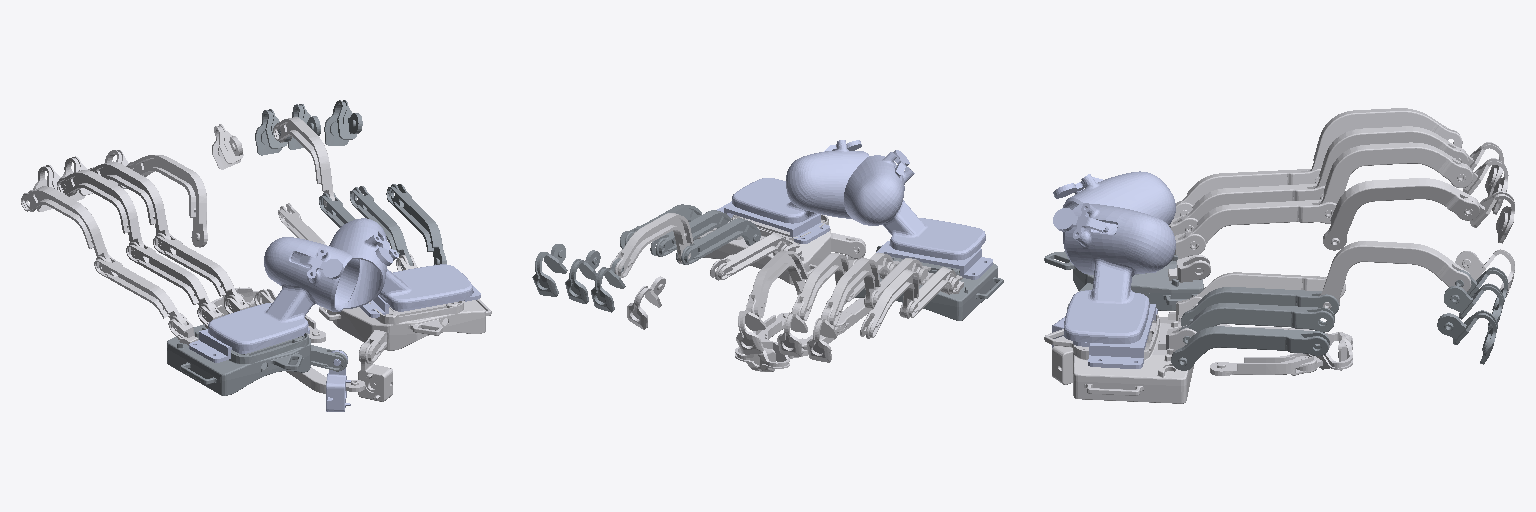
--- Render facts (derived) ---
3 views of the same robot in one strip: view 1: azimuth 30°, elevation 25°; view 2: azimuth 150°, elevation 25°; view 3: azimuth 270°, elevation 25° (orthographic).
Model skeleton_hands with 61 links and 60 joints (42 revolute, 18 fixed), rooted at base_link, posed all joints at 0.
Links seen in each view (by area): view 1: Lgamepadbase, Rgamepadbase, link_LeftSkeletonBase, link_RightSkeletonBase, link_LeftSkeletonIndex3, link_LeftSkeletonRing3, link_LeftSkeletonPinky3, link_LeftSkeletonMiddle3, link_LeftSkeletonMiddle2, link_LeftSkeletonRing2, link_LeftSkeletonPinky2, link_RightSkeletonMiddle3 (+11 smaller); view 2: Lgamepadbase, Rgamepadbase, link_RightSkeletonBase, link_LeftSkeletonBase, link_RightSkeletonMiddle3, link_LeftSkeletonIndex3, link_LeftSkeletonRing3, link_LeftSkeletonPinky3, link_RightSkeletonMiddle2, link_RightSkeletonIndex2, link_LeftSkeletonMiddle3, link_RightSkeletonRing2 (+11 smaller); view 3: Rgamepadbase, link_RightSkeletonBase, link_LeftSkeletonIndex3, Lgamepadbase, link_LeftSkeletonMiddle3, link_RightSkeletonPinky2, link_RightSkeletonMiddle3, link_RightSkeletonRing2, link_LeftSkeletonMiddle2, link_LeftSkeletonPinky3, link_LeftSkeletonBase, link_LeftSkeletonRing3 (+17 smaller).
Boxes of the visible links, x1,y1,x2,y2 form: Lgamepadbase: [189, 237, 359, 362]; Rgamepadbase: [329, 218, 480, 317]; link_LeftSkeletonBase: [167, 324, 347, 395]; link_RightSkeletonBase: [319, 299, 491, 363]; link_LeftSkeletonIndex3: [126, 155, 207, 247]; link_LeftSkeletonRing3: [57, 170, 144, 255]; link_LeftSkeletonPinky3: [21, 186, 111, 268]; link_LeftSkeletonMiddle3: [88, 161, 171, 246]; link_LeftSkeletonMiddle2: [153, 233, 242, 308]; link_LeftSkeletonRing2: [126, 241, 216, 316]; link_LeftSkeletonPinky2: [94, 254, 186, 329]; link_RightSkeletonMiddle3: [273, 117, 334, 206]; Lgamepadbase: [844, 150, 992, 279]; Rgamepadbase: [717, 140, 868, 243]; link_RightSkeletonBase: [693, 214, 865, 284]; link_LeftSkeletonBase: [855, 246, 1003, 320]; link_RightSkeletonMiddle3: [609, 213, 693, 277]; link_LeftSkeletonIndex3: [746, 251, 807, 317]; link_LeftSkeletonRing3: [821, 258, 880, 326]; link_LeftSkeletonPinky3: [860, 269, 918, 338]; link_RightSkeletonMiddle2: [676, 218, 760, 264]; link_RightSkeletonIndex2: [710, 233, 789, 280]; link_LeftSkeletonMiddle3: [791, 253, 849, 320]; link_RightSkeletonRing2: [650, 210, 731, 256]; Rgamepadbase: [1053, 203, 1175, 368]; link_RightSkeletonBase: [1044, 314, 1193, 403]; link_LeftSkeletonIndex3: [1323, 178, 1479, 250]; Lgamepadbase: [1053, 171, 1175, 273]; link_LeftSkeletonMiddle3: [1319, 142, 1472, 217]; link_RightSkeletonPinky2: [1171, 326, 1329, 370]; link_RightSkeletonMiddle3: [1319, 241, 1471, 308]; link_RightSkeletonRing2: [1179, 303, 1334, 343]; link_LeftSkeletonMiddle2: [1183, 200, 1336, 248]; link_LeftSkeletonPinky3: [1310, 108, 1462, 183]; link_LeftSkeletonBase: [1044, 251, 1203, 310]; link_LeftSkeletonRing3: [1314, 126, 1468, 199].
Size in the robot's own frame: 0.248 by 0.2578 by 0.1078 metres.
Meshes: 46 distinct files referenced, 36 mesh visuals loaded (36 binary STL); not drawn: 10 (reference not matched to a file when rendering).

URDF robot description (skeleton_hands):
<?xml version='1.0' encoding='utf-8'?>
<robot name="skeleton_hands">
    
    <link name="base_link" />
    
    
    <link name="link_RightSkeletonBase">
        <visual>
        <origin xyz="0 0 0" rpy="0 0 0" />
        <geometry>
            <mesh filename="package://io_mocap/description/meshes/v4/R_base_link.STL" />
        </geometry>
        <material name="">
            <color rgba="0.866666666666667 0.866666666666667 0.890196078431372 1" />
        </material>
        </visual>
        <collision>
        <origin xyz="0 0 0" rpy="0 0 0" />
        <geometry>
            <mesh filename="package://io_mocap/description/meshes/v4/R_base_link.STL" />
        </geometry>
        </collision>
    <inertial>
      <origin xyz="0.00796015810167955 -0.0223806324874924 -0.00754865265348615" rpy="0 0 0" />
      <mass value="0.0381015295019329" />
      <inertia ixx="1.57718800745917E-05" ixy="6.20482209711992E-07" ixz="-6.07587294987589E-07" iyy="2.35787256108512E-05" iyz="-3.31320823452304E-07" izz="3.85148762850539E-05" />
    </inertial>
    </link>
    <link name="link_RightSkeletonThumbBase">
        <visual>
        <origin xyz="0 0 0" rpy="0 0 0" />
        <geometry>
            <mesh filename="package://io_mocap/description/meshes/v4/R_figer1base.STL" />
        </geometry>
        <material name="">
            <color rgba="0.866666666666667 0.866666666666667 0.890196078431372 1" />
        </material>
        </visual>
        <collision>
        <origin xyz="0 0 0" rpy="0 0 0" />
        <geometry>
            <mesh filename="package://io_mocap/description/meshes/v4/R_figer1base.STL" />
        </geometry>
        </collision>
    <inertial>
      <origin xyz="-0.00565122071301274 -0.000501255972792568 0.0144743281019806" rpy="0 0 0" />
      <mass value="0.00503517876942867" />
      <inertia ixx="3.0284978913365E-07" ixy="-4.84190552283924E-09" ixz="4.64240301448541E-08" iyy="4.03125978353386E-07" iyz="1.09069756102581E-08" izz="1.64098939217181E-07" />
    </inertial>
    </link>
    <link name="link_RightSkeletonThumb1">
        <visual>
        <origin xyz="0 0 0" rpy="0 0 0" />
        <geometry>
            <mesh filename="package://io_mocap/description/meshes/v4/R_figer1_1.STL" />
        </geometry>
        <material name="">
            <color rgba="0.866666666666667 0.866666666666667 0.890196078431372 1" />
        </material>
        </visual>
        <collision>
        <origin xyz="0 0 0" rpy="0 0 0" />
        <geometry>
            <mesh filename="package://io_mocap/description/meshes/v4/R_figer1_1.STL" />
        </geometry>
        </collision>
    <inertial>
      <origin xyz="0.00103307505347316 0.00184077480530574 0.00372077729598377" rpy="0 0 0" />
      <mass value="0.00142104750359472" />
      <inertia ixx="7.34398085023081E-08" ixy="-2.41328511399796E-09" ixz="-3.3240568542648E-09" iyy="4.17889579868087E-08" iyz="-1.49123152617831E-08" izz="4.72743798877277E-08" />
    </inertial>
    </link>
    <link name="link_RightSkeletonThumb2">
        <visual>
        <origin xyz="0 0 0" rpy="0 0 0" />
        <geometry>
            <mesh filename="package://io_mocap/description/meshes/v4/R_figer1_2.STL" />
        </geometry>
        <material name="">
            <color rgba="0.866666666666667 0.866666666666667 0.890196078431372 1" />
        </material>
        </visual>
        <collision>
        <origin xyz="0 0 0" rpy="0 0 0" />
        <geometry>
            <mesh filename="package://io_mocap/description/meshes/v4/R_figer1_2.STL" />
        </geometry>
        </collision>
    <inertial>
      <origin xyz="-0.00232322870955951 0.0181721928412631 0.0329507487373648" rpy="0 0 0" />
      <mass value="0.00619479805127885" />
      <inertia ixx="3.99788034904245E-06" ixy="-5.39381049868907E-09" ixz="3.61902852797014E-09" iyy="2.30653492100461E-06" iyz="-1.85763694879346E-06" izz="1.73763444181624E-06" />
    </inertial>
    </link>
    <link name="link_RightSkeletonThumb3">
        <visual>
        <origin xyz="0 0 0" rpy="0 0 0" />
        <geometry>
            <mesh filename="package://io_mocap/description/meshes/v4/R_figer1_3.STL" />
        </geometry>
        <material name="">
            <color rgba="0.866666666666667 0.866666666666667 0.890196078431372 1" />
        </material>
        </visual>
        <collision>
        <origin xyz="0 0 0" rpy="0 0 0" />
        <geometry>
            <mesh filename="package://io_mocap/description/meshes/v4/R_figer1_3.STL" />
        </geometry>
        </collision>
    <inertial>
      <origin xyz="-0.00212757980775651 0.00134841278506191 0.019940757393612" rpy="0 0 0" />
      <mass value="0.00375708793059457" />
      <inertia ixx="7.71326509106515E-07" ixy="-1.5101709953254E-09" ixz="6.67792513897098E-09" iyy="7.24505391043061E-07" iyz="-1.00538276089503E-07" izz="7.39249486010084E-08" />
    </inertial>
    </link>
    <link name="link_RightSkeletonThumb4">
        <visual>
        <origin xyz="0 0 0" rpy="0 0 0" />
        <geometry>
            <mesh filename="package://io_mocap/description/meshes/v4/R_figer1_4.STL" />
        </geometry>
        <material name="">
            <color rgba="0.866666666666667 0.866666666666667 0.890196078431372 1" />
        </material>
        </visual>
        <collision>
        <origin xyz="0 0 0" rpy="0 0 0" />
        <geometry>
            <mesh filename="package://io_mocap/description/meshes/v4/R_figer1_4.STL" />
        </geometry>
        </collision>
    <inertial>
      <origin xyz="-0.00269144829495772 0.00131123432438183 -0.0106491104624541" rpy="0 0 0" />
      <mass value="0.00283813885886545" />
      <inertia ixx="2.95191006974025E-07" ixy="1.71597808354591E-09" ixz="-1.5368571085107E-08" iyy="2.53523111794926E-07" iyz="4.47728143031876E-09" izz="9.65716906164859E-08" />
    </inertial>
    </link>
    <link name="link_RightSkeletonIndex1">
        <visual>
        <origin xyz="0 0 0" rpy="0 0 0" />
        <geometry>
            <mesh filename="package://io_mocap/description/meshes/v4/R_figer2_1.STL" />
        </geometry>
        <material name="">
            <color rgba="0.866666666666667 0.866666666666667 0.890196078431372 1" />
        </material>
        </visual>
        <collision>
        <origin xyz="0 0 0" rpy="0 0 0" />
        <geometry>
            <mesh filename="package://io_mocap/description/meshes/v4/R_figer2_1.STL" />
        </geometry>
        </collision>
    <inertial>
      <origin xyz="0.00103307504266343 0.00184077481598622 0.00372077728256266" rpy="0 0 0" />
      <mass value="0.00142104749535094" />
      <inertia ixx="7.34398089807809E-08" ixy="-2.41328507686512E-09" ixz="-3.32405672713572E-09" iyy="4.1788957914828E-08" iyz="-1.49123154155797E-08" izz="4.72743801943149E-08" />
    </inertial>
    </link>
    <link name="link_RightSkeletonIndex2">
        <visual>
        <origin xyz="0 0 0" rpy="0 0 0" />
        <geometry>
            <mesh filename="package://io_mocap/description/meshes/v4/R_figer2_2.STL" />
        </geometry>
        <material name="">
            <color rgba="0.866666666666667 0.866666666666667 0.890196078431372 1" />
        </material>
        </visual>
        <collision>
        <origin xyz="0 0 0" rpy="0 0 0" />
        <geometry>
            <mesh filename="package://io_mocap/description/meshes/v4/R_figer2_2.STL" />
        </geometry>
        </collision>
    <inertial>
      <origin xyz="-0.00225494995541581 0.0152388468351605 0.0296839473890663" rpy="0 0 0" />
      <mass value="0.00558495756330841" />
      <inertia ixx="2.91836620840625E-06" ixy="-4.14851984558481E-09" ixz="4.21806668429099E-09" iyy="1.74531636320502E-06" iyz="-1.32500629306026E-06" izz="1.21440970517614E-06" />
    </inertial>
    </link>
    <link name="link_RightSkeletonIndex3">
        <visual>
        <origin xyz="0 0 0" rpy="0 0 0" />
        <geometry>
            <mesh filename="package://io_mocap/description/meshes/v4/R_figer2_3.STL" />
        </geometry>
        <material name="">
            <color rgba="0.866666666666667 0.866666666666667 0.890196078431372 1" />
        </material>
        </visual>
        <collision>
        <origin xyz="0 0 0" rpy="0 0 0" />
        <geometry>
            <mesh filename="package://io_mocap/description/meshes/v4/R_figer2_3.STL" />
        </geometry>
        </collision>
    <inertial>
      <origin xyz="-0.00235572032002532 0.021473120708047 0.0285487191425626" rpy="0 0 0" />
      <mass value="0.00663685611795157" />
      <inertia ixx="4.2149172670233E-06" ixy="-3.2931532345881E-09" ixz="1.81725175793322E-08" iyy="1.11332596242003E-06" iyz="-1.23177219223019E-06" izz="3.14896536873041E-06" />
    </inertial>
    </link>
    <link name="link_RightSkeletonIndex4">
        <visual>
        <origin xyz="0 0 0" rpy="0 0 0" />
        <geometry>
            <mesh filename="package://io_mocap/description/meshes/v4/R_figer2_4.STL" />
        </geometry>
        <material name="">
            <color rgba="0.866666666666667 0.866666666666667 0.890196078431372 1" />
        </material>
        </visual>
        <collision>
        <origin xyz="0 0 0" rpy="0 0 0" />
        <geometry>
            <mesh filename="package://io_mocap/description/meshes/v4/R_figer2_4.STL" />
        </geometry>
        </collision>
    <inertial>
      <origin xyz="-0.0026914180675609 0.00131123336884371 -0.0106491162895952" rpy="0 0 0" />
      <mass value="0.00283814206573991" />
      <inertia ixx="2.95191305819849E-07" ixy="1.71594002207152E-09" ixz="-1.53679050089507E-08" iyy="2.535226738251E-07" iyz="4.47721015720482E-09" izz="9.6571438657795E-08" />
    </inertial>
    </link>
    <link name="link_RightSkeletonMiddle1">
        <visual>
        <origin xyz="0 0 0" rpy="0 0 0" />
        <geometry>
            <mesh filename="package://io_mocap/description/meshes/v4/R_figer3_1.STL" />
        </geometry>
        <material name="">
            <color rgba="0.866666666666667 0.866666666666667 0.890196078431372 1" />
        </material>
        </visual>
        <collision>
        <origin xyz="0 0 0" rpy="0 0 0" />
        <geometry>
            <mesh filename="package://io_mocap/description/meshes/v4/R_figer3_1.STL" />
        </geometry>
        </collision>
    <inertial>
      <origin xyz="0.00103307508570481 0.00184077478338782 0.0037207773602195" rpy="0 0 0" />
      <mass value="0.00142104751859945" />
      <inertia ixx="7.3439809623175E-08" ixy="-2.41328476584004E-09" ixz="-3.32405702526707E-09" iyy="4.17889587410191E-08" iyz="-1.49123151802322E-08" izz="4.72743806400365E-08" />
    </inertial>
    </link>
    <link name="link_RightSkeletonMiddle2">
        <visual>
        <origin xyz="0 0 0" rpy="0 0 0" />
        <geometry>
            <mesh filename="package://io_mocap/description/meshes/v4/R_figer3_2.STL" />
        </geometry>
        <material name="">
            <color rgba="0.615686274509804 0.643137254901961 0.674509803921569 1" />
        </material>
        </visual>
        <collision>
        <origin xyz="0 0 0" rpy="0 0 0" />
        <geometry>
            <mesh filename="package://io_mocap/description/meshes/v4/R_figer3_2.STL" />
        </geometry>
        </collision>
    <inertial>
      <origin xyz="-0.00225495233843075 0.0152388460708894 0.029683944118068" rpy="0 0 0" />
      <mass value="0.00558495686016827" />
      <inertia ixx="2.91836682320128E-06" ixy="-4.14856599032089E-09" ixz="4.21793857169474E-09" iyy="1.74531712287045E-06" iyz="-1.32500694741923E-06" izz="1.21440950221904E-06" />
    </inertial>
    </link>
    <link name="link_RightSkeletonMiddle3">
        <visual>
        <origin xyz="0 0 0" rpy="0 0 0" />
        <geometry>
            <mesh filename="package://io_mocap/description/meshes/v4/R_figer3_3.STL" />
        </geometry>
        <material name="">
            <color rgba="0.866666666666667 0.866666666666667 0.890196078431372 1" />
        </material>
        </visual>
        <collision>
        <origin xyz="0 0 0" rpy="0 0 0" />
        <geometry>
            <mesh filename="package://io_mocap/description/meshes/v4/R_figer3_3.STL" />
        </geometry>
        </collision>
    <inertial>
      <origin xyz="-0.00235572479349241 0.0214731366915545 0.0285487400327757" rpy="0 0 0" />
      <mass value="0.00663684957658263" />
      <inertia ixx="4.21491005720671E-06" ixy="-3.29390834910374E-09" ixz="1.8171772300357E-08" iyy="1.11332106780687E-06" iyz="-1.2317692593153E-06" izz="3.14896228623323E-06" />
    </inertial>
    </link>
    <link name="link_RightSkeletonMiddle4">
        <visual>
        <origin xyz="0 0 0" rpy="0 0 0" />
        <geometry>
            <mesh filename="package://io_mocap/description/meshes/v4/R_figer3_4.STL" />
        </geometry>
        <material name="">
            <color rgba="0.615686274509804 0.643137254901961 0.674509803921569 1" />
        </material>
        </visual>
        <collision>
        <origin xyz="0 0 0" rpy="0 0 0" />
        <geometry>
            <mesh filename="package://io_mocap/description/meshes/v4/R_figer3_4.STL" />
        </geometry>
        </collision>
    <inertial>
      <origin xyz="-0.00269142354774019 -0.000938576252218395 -0.0139532868338926" rpy="0 0 0" />
      <mass value="0.00283813730192772" />
      <inertia ixx="2.95191343112668E-07" ixy="1.71603422344851E-09" ixz="-1.53680591698325E-08" iyy="2.53522363104874E-07" iyz="4.47723638318037E-09" izz="9.65713727636697E-08" />
    </inertial>
    </link>
    <link name="link_RightSkeletonRing1">
        <visual>
        <origin xyz="0 0 0" rpy="0 0 0" />
        <geometry>
            <mesh filename="package://io_mocap/description/meshes/v4/R_figer4_1.STL" />
        </geometry>
        <material name="">
            <color rgba="0.866666666666667 0.866666666666667 0.890196078431372 1" />
        </material>
        </visual>
        <collision>
        <origin xyz="0 0 0" rpy="0 0 0" />
        <geometry>
            <mesh filename="package://io_mocap/description/meshes/v4/R_figer4_1.STL" />
        </geometry>
        </collision>
    <inertial>
      <origin xyz="0.00103307508570481 0.00184077478338781 0.0037207773602195" rpy="0 0 0" />
      <mass value="0.00142104751859945" />
      <inertia ixx="7.34398096231749E-08" ixy="-2.41328476584003E-09" ixz="-3.32405702526709E-09" iyy="4.1788958741019E-08" iyz="-1.49123151802322E-08" izz="4.72743806400364E-08" />
    </inertial>
    </link>
    <link name="link_RightSkeletonRing2">
        <visual>
        <origin xyz="0 0 0" rpy="0 0 0" />
        <geometry>
            <mesh filename="package://io_mocap/description/meshes/v4/R_figer4_2.STL" />
        </geometry>
        <material name="">
            <color rgba="0.615686274509804 0.643137254901961 0.674509803921569 1" />
        </material>
        </visual>
        <collision>
        <origin xyz="0 0 0" rpy="0 0 0" />
        <geometry>
            <mesh filename="package://io_mocap/description/meshes/v4/R_figer4_2.STL" />
        </geometry>
        </collision>
    <inertial>
      <origin xyz="-0.00225495233843075 0.0152388460708892 0.029683944118067" rpy="0 0 0" />
      <mass value="0.00558495686016845" />
      <inertia ixx="2.9183668263298E-06" ixy="-4.14856589933394E-09" ixz="4.21793867181136E-09" iyy="1.7453171255457E-06" iyz="-1.32500694813122E-06" izz="1.21440950270268E-06" />
    </inertial>
    </link>
    <link name="link_RightSkeletonRing3">
        <visual>
        <origin xyz="0 0 0" rpy="0 0 0" />
        <geometry>
            <mesh filename="package://io_mocap/description/meshes/v4/R_figer4_3.STL" />
        </geometry>
        <material name="">
            <color rgba="0.866666666666667 0.866666666666667 0.890196078431372 1" />
        </material>
        </visual>
        <collision>
        <origin xyz="0 0 0" rpy="0 0 0" />
        <geometry>
            <mesh filename="package://io_mocap/description/meshes/v4/R_figer4_3.STL" />
        </geometry>
        </collision>
    <inertial>
      <origin xyz="-0.00235572454769539 0.0214731363844119 0.0285487393993492" rpy="0 0 0" />
      <mass value="0.00663684971073181" />
      <inertia ixx="4.21491023862972E-06" ixy="-3.29387584199395E-09" ixz="1.81718097893476E-08" iyy="1.11332120740036E-06" iyz="-1.23176935213484E-06" izz="3.14896233832563E-06" />
    </inertial>
    </link>
    <link name="link_RightSkeletonRing4">
        <visual>
        <origin xyz="0 0 0" rpy="0 0 0" />
        <geometry>
            <mesh filename="package://io_mocap/description/meshes/v4/R_figer4_4.STL" />
        </geometry>
        <material name="">
            <color rgba="0.615686274509804 0.643137254901961 0.674509803921569 1" />
        </material>
        </visual>
        <collision>
        <origin xyz="0 0 0" rpy="0 0 0" />
        <geometry>
            <mesh filename="package://io_mocap/description/meshes/v4/R_figer4_4.STL" />
        </geometry>
        </collision>
    <inertial>
      <origin xyz="-0.00269142354774019 -0.000938576252218465 -0.0139532868338925" rpy="0 0 0" />
      <mass value="0.00283813730192769" />
      <inertia ixx="2.95191343112664E-07" ixy="1.71603422344794E-09" ixz="-1.53680591698328E-08" iyy="2.53522363104871E-07" iyz="4.47723638318119E-09" izz="9.65713727636688E-08" />
    </inertial>
    </link>
    <link name="link_RightSkeletonPinky1">
        <visual>
        <origin xyz="0 0 0" rpy="0 0 0" />
        <geometry>
            <mesh filename="package://io_mocap/description/meshes/v4/R_figer5_1.STL" />
        </geometry>
        <material name="">
            <color rgba="0.866666666666667 0.866666666666667 0.890196078431372 1" />
        </material>
        </visual>
        <collision>
        <origin xyz="0 0 0" rpy="0 0 0" />
        <geometry>
            <mesh filename="package://io_mocap/description/meshes/v4/R_figer5_1.STL" />
        </geometry>
        </collision>
    <inertial>
      <origin xyz="0.00103307510727016 0.0018407747681536 0.00372077739461437" rpy="0 0 0" />
      <mass value="0.00142104752949724" />
      <inertia ixx="7.34398098284156E-08" ixy="-2.41328463578981E-09" ixz="-3.32405717829616E-09" iyy="4.1788959109633E-08" iyz="-1.49123150597226E-08" izz="4.72743807982806E-08" />
    </inertial>
    </link>
    <link name="link_RightSkeletonPinky2">
        <visual>
        <origin xyz="0 0 0" rpy="0 0 0" />
        <geometry>
            <mesh filename="package://io_mocap/description/meshes/v4/R_figer5_2.STL" />
        </geometry>
        <material name="">
            <color rgba="0.615686274509804 0.643137254901961 0.674509803921569 1" />
        </material>
        </visual>
        <collision>
        <origin xyz="0 0 0" rpy="0 0 0" />
        <geometry>
            <mesh filename="package://io_mocap/description/meshes/v4/R_figer5_2.STL" />
        </geometry>
        </collision>
    <inertial>
      <origin xyz="-0.00225495398472628 0.0152388453344131 0.0296839389686488" rpy="0 0 0" />
      <mass value="0.0055849572264132" />
      <inertia ixx="2.9183676470236E-06" ixy="-4.14858966781097E-09" ixz="4.21787871476057E-09" iyy="1.74531806183641E-06" iyz="-1.32500756906238E-06" izz="1.21440933015917E-06" />
    </inertial>
    </link>
    <link name="link_RightSkeletonPinky3">
        <visual>
        <origin xyz="0 0 0" rpy="0 0 0" />
        <geometry>
            <mesh filename="package://io_mocap/description/meshes/v4/R_figer5_3.STL" />
        </geometry>
        <material name="">
            <color rgba="0.866666666666667 0.866666666666667 0.890196078431372 1" />
        </material>
        </visual>
        <collision>
        <origin xyz="0 0 0" rpy="0 0 0" />
        <geometry>
            <mesh filename="package://io_mocap/description/meshes/v4/R_figer5_3.STL" />
        </geometry>
        </collision>
    <inertial>
      <origin xyz="-0.00235572771755228 0.0214731406786556 0.0285487426831204" rpy="0 0 0" />
      <mass value="0.00663684736422184" />
      <inertia ixx="4.2149092003135E-06" ixy="-3.29427631293345E-09" ixz="1.8171488817969E-08" iyy="1.11332047704093E-06" iyz="-1.23176906960859E-06" izz="3.14896143733786E-06" />
    </inertial>
    </link>
    <link name="link_RightSkeletonPinky4">
        <visual>
        <origin xyz="0 0 0" rpy="0 0 0" />
        <geometry>
            <mesh filename="package://io_mocap/description/meshes/v4/R_figer5_4.STL" />
        </geometry>
        <material name="">
            <color rgba="0.615686274509804 0.643137254901961 0.674509803921569 1" />
        </material>
        </visual>
        <collision>
        <origin xyz="0 0 0" rpy="0 0 0" />
        <geometry>
            <mesh filename="package://io_mocap/description/meshes/v4/R_figer5_4.STL" />
        </geometry>
        </collision>
    <inertial>
      <origin xyz="-0.00269142161091054 0.00131124045330436 -0.0106491028537343" rpy="0 0 0" />
      <mass value="0.0028381369220279" />
      <inertia ixx="2.95191404600699E-07" ixy="1.71593490047463E-09" ixz="-1.53680891113599E-08" iyy="2.53522400439724E-07" iyz="4.47736013107046E-09" izz="9.65714677930946E-08" />
    </inertial>
    </link>

    
    <link name="link_LeftSkeletonBase">
        <visual>
        <origin xyz="0 0 0" rpy="0 0 0" />
        <geometry>
            <mesh filename="package://io_mocap/description/meshes/v4/L_base_link.STL" />
        </geometry>
        <material name="">
            <color rgba="0.615686274509804 0.643137254901961 0.674509803921569 1" />
        </material>
        </visual>
        <collision>
        <origin xyz="0 0 0" rpy="0 0 0" />
        <geometry>
            <mesh filename="package://io_mocap/description/meshes/v4/L_base_link.STL" />
        </geometry>
        </collision>
    <inertial>
      <origin xyz="-0.00795971826189585 -0.0223786822134 -0.00754886924823978" rpy="0 0 0" />
      <mass value="0.0381033782864806" />
      <inertia ixx="1.57715027656341E-05" ixy="-6.20672688310259E-07" ixz="6.07301367718693E-07" iyy="2.35777844365302E-05" iyz="-3.31185265424762E-07" izz="3.85136702094599E-05" />
    </inertial>
    </link>
    <link name="link_LeftSkeletonThumbBase">
        <visual>
        <origin xyz="0 0 0" rpy="0 0 0" />
        <geometry>
            <mesh filename="package://io_mocap/description/meshes/v4/L_figer1base.STL" />
        </geometry>
        <material name="">
            <color rgba="0.792156862745098 0.819607843137255 0.933333333333333 1" />
        </material>
        </visual>
        <collision>
        <origin xyz="0 0 0" rpy="0 0 0" />
        <geometry>
            <mesh filename="package://io_mocap/description/meshes/v4/L_figer1base.STL" />
        </geometry>
        </collision>
    <inertial>
      <origin xyz="-0.00565122125132897 -0.000501255807949387 -0.0144743297760789" rpy="0 0 0" />
      <mass value="0.00503517796554752" />
      <inertia ixx="3.02849721330865E-07" ixy="-4.84190547312495E-09" ixz="-4.64239909926053E-08" iyy="4.03125891253508E-07" iyz="-1.09069982752038E-08" izz="1.64098935188539E-07" />
    </inertial>
    </link>
    <link name="link_LeftSkeletonThumb1">
        <visual>
        <origin xyz="0 0 0" rpy="0 0 0" />
        <geometry>
            <mesh filename="package://io_mocap/description/meshes/v4/L_figer1_1.STL" />
        </geometry>
        <material name="">
            <color rgba="0.866666666666667 0.866666666666667 0.890196078431372 1" />
        </material>
        </visual>
        <collision>
        <origin xyz="0 0 0" rpy="0 0 0" />
        <geometry>
            <mesh filename="package://io_mocap/description/meshes/v4/L_figer1_1.STL" />
        </geometry>
        </collision>
    <inertial>
      <origin xyz="0.00103307505347319 0.00184077480530568 0.00372077729598363" rpy="0 0 0" />
      <mass value="0.00142104750359472" />
      <inertia ixx="7.34398085023082E-08" ixy="-2.41328511399795E-09" ixz="-3.32405685426481E-09" iyy="4.17889579868088E-08" iyz="-1.49123152617831E-08" izz="4.72743798877278E-08" />
    </inertial>
    </link>
    <link name="link_LeftSkeletonThumb2">
        <visual>
        <origin xyz="0 0 0" rpy="0 0 0" />
        <geometry>
            <mesh filename="package://io_mocap/description/meshes/v4/L_figer1_2.STL" />
        </geometry>
        <material name="">
            <color rgba="0.866666666666667 0.866666666666667 0.890196078431372 1" />
        </material>
        </visual>
        <collision>
        <origin xyz="0 0 0" rpy="0 0 0" />
        <geometry>
            <mesh filename="package://io_mocap/description/meshes/v4/L_figer1_2.STL" />
        </geometry>
        </collision>
    <inertial>
      <origin xyz="-0.00232322870955949 0.0181721928412632 0.0329507487373656" rpy="0 0 0" />
      <mass value="0.00619479805127877" />
      <inertia ixx="3.99788034854978E-06" ixy="-5.39381049615914E-09" ixz="3.61902852100043E-09" iyy="2.30653492179191E-06" iyz="-1.85763694836304E-06" izz="1.73763444053624E-06" />
    </inertial>
    </link>
    <link name="link_LeftSkeletonThumb3">
        <visual>
        <origin xyz="0 0 0" rpy="0 0 0" />
        <geometry>
            <mesh filename="package://io_mocap/description/meshes/v4/L_figer1_3.STL" />
        </geometry>
        <material name="">
            <color rgba="0.866666666666667 0.866666666666667 0.890196078431372 1" />
        </material>
        </visual>
        <collision>
        <origin xyz="0 0 0" rpy="0 0 0" />
        <geometry>
            <mesh filename="package://io_mocap/description/meshes/v4/L_figer1_3.STL" />
        </geometry>
        </collision>
    <inertial>
      <origin xyz="-0.00212757993564025 0.00134841281276385 0.0199407577558663" rpy="0 0 0" />
      <mass value="0.00375708785451946" />
      <inertia ixx="7.71326480727341E-07" ixy="-1.51017237583647E-09" ixz="6.67791712324156E-09" iyy="7.24505359944446E-07" iyz="-1.00538270710119E-07" izz="7.39249458745912E-08" />
    </inertial>
    </link>
    <link name="link_LeftSkeletonThumb4">
        <visual>
        <origin xyz="0 0 0" rpy="0 0 0" />
        <geometry>
            <mesh filename="package://io_mocap/description/meshes/v4/L_figer1_4.STL" />
        </geometry>
        <material name="">
            <color rgba="0.866666666666667 0.866666666666667 0.890196078431372 1" />
        </material>
        </visual>
        <collision>
        <origin xyz="0 0 0" rpy="0 0 0" />
        <geometry>
            <mesh filename="package://io_mocap/description/meshes/v4/L_figer1_4.STL" />
        </geometry>
        </collision>
    <inertial>
      <origin xyz="-0.00269144829495786 0.00131123432438181 -0.0106491104624541" rpy="0 0 0" />
      <mass value="0.00283813885886545" />
      <inertia ixx="2.95191006974024E-07" ixy="1.715978083546E-09" ixz="-1.53685710851065E-08" iyy="2.53523111794926E-07" iyz="4.47728143031873E-09" izz="9.65716906164854E-08" />
    </inertial>
    </link>
    <link name="link_LeftSkeletonIndex1">
        <visual>
        <origin xyz="0 0 0" rpy="0 0 0" />
        <geometry>
            <mesh filename="package://io_mocap/description/meshes/v4/L_figer2_1.STL" />
        </geometry>
        <material name="">
            <color rgba="0.866666666666667 0.866666666666667 0.890196078431372 1" />
        </material>
        </visual>
        <collision>
        <origin xyz="0 0 0" rpy="0 0 0" />
        <geometry>
            <mesh filename="package://io_mocap/description/meshes/v4/L_figer2_1.STL" />
        </geometry>
        </collision>
    <inertial>
      <origin xyz="0.00103307509026819 0.00184077478079219 0.00372077737035408" rpy="0 0 0" />
      <mass value="0.00142104752116292" />
      <inertia ixx="7.34398097705605E-08" ixy="-2.41328471829701E-09" ixz="-3.32405704960183E-09" iyy="4.17889588569522E-08" iyz="-1.49123151713754E-08" izz="4.7274380734949E-08" />
    </inertial>
    </link>
    <link name="link_LeftSkeletonIndex2">
        <visual>
        <origin xyz="0 0 0" rpy="0 0 0" />
        <geometry>
            <mesh filename="package://io_mocap/description/meshes/v4/L_figer2_2.STL" />
        </geometry>
        <material name="">
            <color rgba="0.866666666666667 0.866666666666667 0.890196078431372 1" />
        </material>
        </visual>
        <collision>
        <origin xyz="0 0 0" rpy="0 0 0" />
        <geometry>
            <mesh filename="package://io_mocap/description/meshes/v4/L_figer2_2.STL" />
        </geometry>
        </collision>
    <inertial>
      <origin xyz="-0.00225495196610019 0.0152388465015396 0.0296839471721429" rpy="0 0 0" />
      <mass value="0.00558495597861908" />
      <inertia ixx="2.91836638778982E-06" ixy="-4.14856306465521E-09" ixz="4.21794456616969E-09" iyy="1.74531664665666E-06" iyz="-1.32500667567509E-06" izz="1.21440955407491E-06" />
    </inertial>
    </link>
    <link name="link_LeftSkeletonIndex3">
        <visual>
        <origin xyz="0 0 0" rpy="0 0 0" />
        <geometry>
            <mesh filename="package://io_mocap/description/meshes/v4/L_figer2_3.STL" />
        </geometry>
        <material name="">
            <color rgba="0.866666666666667 0.866666666666667 0.890196078431372 1" />
        </material>
        </visual>
        <collision>
        <origin xyz="0 0 0" rpy="0 0 0" />
        <geometry>
            <mesh filename="package://io_mocap/description/meshes/v4/L_figer2_3.STL" />
        </geometry>
        </collision>
    <inertial>
      <origin xyz="-0.00235571534919174 0.0214730659761306 0.0285487030071992" rpy="0 0 0" />
      <mass value="0.00663689292635733" />
      <inertia ixx="4.21492012071515E-06" ixy="-3.29363285361801E-09" ixz="1.81727320848805E-08" iyy="1.11332144347172E-06" iyz="-1.23177645824186E-06" izz="3.14896956323261E-06" />
    </inertial>
    </link>
    <link name="link_LeftSkeletonIndex4">
        <visual>
        <origin xyz="0 0 0" rpy="0 0 0" />
        <geometry>
            <mesh filename="package://io_mocap/description/meshes/v4/L_figer2_4.STL" />
        </geometry>
        <material name="">
            <color rgba="0.866666666666667 0.866666666666667 0.890196078431372 1" />
        </material>
        </visual>
        <collision>
        <origin xyz="0 0 0" rpy="0 0 0" />
        <geometry>
            <mesh filename="package://io_mocap/description/meshes/v4/L_figer2_4.STL" />
        </geometry>
        </collision>
    <inertial>
      <origin xyz="-0.00269142139243032 0.00131119366606559 -0.0106491009653354" rpy="0 0 0" />
      <mass value="0.00283813624759799" />
      <inertia ixx="2.951912997642E-07" ixy="1.71678009357066E-09" ixz="-1.5368007180772E-08" iyy="2.53522873664869E-07" iyz="4.47648334924128E-09" izz="9.65716410018517E-08" />
    </inertial>
    </link>
    <link name="link_LeftSkeletonMiddle1">
        <visual>
        <origin xyz="0 0 0" rpy="0 0 0" />
        <geometry>
            <mesh filename="package://io_mocap/description/meshes/v4/L_figer3_1.STL" />
        </geometry>
        <material name="">
            <color rgba="0.866666666666667 0.866666666666667 0.890196078431372 1" />
        </material>
        </visual>
        <collision>
        <origin xyz="0 0 0" rpy="0 0 0" />
        <geometry>
            <mesh filename="package://io_mocap/description/meshes/v4/L_figer3_1.STL" />
        </geometry>
        </collision>
    <inertial>
      <origin xyz="0.00103307506943234 0.00184077479664554 0.00372077733726794" rpy="0 0 0" />
      <mass value="0.00142104751099454" />
      <inertia ixx="7.34398095058843E-08" ixy="-2.413284858295E-09" ixz="-3.3240569053412E-09" iyy="4.17889585025189E-08" iyz="-1.49123152884824E-08" izz="4.7274380532837E-08" />
    </inertial>
    </link>
    <link name="link_LeftSkeletonMiddle2">
        <visual>
        <origin xyz="0 0 0" rpy="0 0 0" />
        <geometry>
            <mesh filename="package://io_mocap/description/meshes/v4/L_figer3_2.STL" />
        </geometry>
        <material name="">
            <color rgba="0.866666666666667 0.866666666666667 0.890196078431372 1" />
        </material>
        </visual>
        <collision>
        <origin xyz="0 0 0" rpy="0 0 0" />
        <geometry>
            <mesh filename="package://io_mocap/description/meshes/v4/L_figer3_2.STL" />
        </geometry>
        </collision>
    <inertial>
      <origin xyz="-0.00225495044703111 0.015238847203026 0.0296839510031334" rpy="0 0 0" />
      <mass value="0.00558495571115789" />
      <inertia ixx="2.91836576376808E-06" ixy="-4.14853801417219E-09" ixz="4.21801887014206E-09" iyy="1.74531591715227E-06" iyz="-1.32500615370565E-06" izz="1.21440969393698E-06" />
    </inertial>
    </link>
    <link name="link_LeftSkeletonMiddle3">
        <visual>
        <origin xyz="0 0 0" rpy="0 0 0" />
        <geometry>
            <mesh filename="package://io_mocap/description/meshes/v4/L_figer3_3.STL" />
        </geometry>
        <material name="">
            <color rgba="0.866666666666667 0.866666666666667 0.890196078431372 1" />
        </material>
        </visual>
        <collision>
        <origin xyz="0 0 0" rpy="0 0 0" />
        <geometry>
            <mesh filename="package://io_mocap/description/meshes/v4/L_figer3_3.STL" />
        </geometry>
        </collision>
    <inertial>
      <origin xyz="-0.00235575036042073 0.0214732052026604 0.0285488068489457" rpy="0 0 0" />
      <mass value="0.00663681790738949" />
      <inertia ixx="4.21488667292334E-06" ixy="-3.29755585159406E-09" ixz="1.8169244364376E-08" iyy="1.11330618522731E-06" iyz="-1.23176105112002E-06" izz="3.14894885124307E-06" />
    </inertial>
    </link>
    <link name="link_LeftSkeletonMiddle4">
        <visual>
        <origin xyz="0 0 0" rpy="0 0 0" />
        <geometry>
            <mesh filename="package://io_mocap/description/meshes/v4/L_figer3_4.STL" />
        </geometry>
        <material name="">
            <color rgba="0.866666666666667 0.866666666666667 0.890196078431372 1" />
        </material>
        </visual>
        <collision>
        <origin xyz="0 0 0" rpy="0 0 0" />
        <geometry>
            <mesh filename="package://io_mocap/description/meshes/v4/L_figer3_4.STL" />
        </geometry>
        </collision>
    <inertial>
      <origin xyz="-0.00269143985186518 0.00131123900117359 -0.0106491096397188" rpy="0 0 0" />
      <mass value="0.00283814024815753" />
      <inertia ixx="2.95191093276479E-07" ixy="1.71570093387614E-09" ixz="-1.53684896368711E-08" iyy="2.53523011704854E-07" iyz="4.47743478896999E-09" izz="9.65718896046615E-08" />
    </inertial>
    </link>
    <link name="link_LeftSkeletonRing1">
        <visual>
        <origin xyz="0 0 0" rpy="0 0 0" />
        <geometry>
            <mesh filename="package://io_mocap/description/meshes/v4/L_figer4_1.STL" />
        </geometry>
        <material name="">
            <color rgba="0.866666666666667 0.866666666666667 0.890196078431372 1" />
        </material>
        </visual>
        <collision>
        <origin xyz="0 0 0" rpy="0 0 0" />
        <geometry>
            <mesh filename="package://io_mocap/description/meshes/v4/L_figer4_1.STL" />
        </geometry>
        </collision>
    <inertial>
      <origin xyz="0.00103307506943234 0.00184077479664554 0.00372077733726793" rpy="0 0 0" />
      <mass value="0.00142104751099453" />
      <inertia ixx="7.34398095058843E-08" ixy="-2.413284858295E-09" ixz="-3.32405690534121E-09" iyy="4.17889585025189E-08" iyz="-1.49123152884824E-08" izz="4.7274380532837E-08" />
    </inertial>
    </link>
    <link name="link_LeftSkeletonRing2">
        <visual>
        <origin xyz="0 0 0" rpy="0 0 0" />
        <geometry>
            <mesh filename="package://io_mocap/description/meshes/v4/L_figer4_2.STL" />
        </geometry>
        <material name="">
            <color rgba="0.866666666666667 0.866666666666667 0.890196078431372 1" />
        </material>
        </visual>
        <collision>
        <origin xyz="0 0 0" rpy="0 0 0" />
        <geometry>
            <mesh filename="package://io_mocap/description/meshes/v4/L_figer4_2.STL" />
        </geometry>
        </collision>
    <inertial>
      <origin xyz="-0.00225495044703106 0.0152388472030259 0.029683951003133" rpy="0 0 0" />
      <mass value="0.00558495571115816" />
      <inertia ixx="2.91836576375482E-06" ixy="-4.14853811090769E-09" ixz="4.21801880889743E-09" iyy="1.74531591777441E-06" iyz="-1.32500615504142E-06" izz="1.21440969333159E-06" />
    </inertial>
    </link>
    <link name="link_LeftSkeletonRing3">
        <visual>
        <origin xyz="0 0 0" rpy="0 0 0" />
        <geometry>
            <mesh filename="package://io_mocap/description/meshes/v4/L_figer4_3.STL" />
        </geometry>
        <material name="">
            <color rgba="0.866666666666667 0.866666666666667 0.890196078431372 1" />
        </material>
        </visual>
        <collision>
        <origin xyz="0 0 0" rpy="0 0 0" />
        <geometry>
            <mesh filename="package://io_mocap/description/meshes/v4/L_figer4_3.STL" />
        </geometry>
        </collision>
    <inertial>
      <origin xyz="-0.00235575036042072 0.0214732052026591 0.0285488068489463" rpy="0 0 0" />
      <mass value="0.00663681790738944" />
      <inertia ixx="4.21488666888122E-06" ixy="-3.29755568884729E-09" ixz="1.81692444753661E-08" iyy="1.11330618321482E-06" iyz="-1.23176105206024E-06" izz="3.14894884915112E-06" />
    </inertial>
    </link>
    <link name="link_LeftSkeletonRing4">
        <visual>
        <origin xyz="0 0 0" rpy="0 0 0" />
        <geometry>
            <mesh filename="package://io_mocap/description/meshes/v4/L_figer4_4.STL" />
        </geometry>
        <material name="">
            <color rgba="0.866666666666667 0.866666666666667 0.890196078431372 1" />
        </material>
        </visual>
        <collision>
        <origin xyz="0 0 0" rpy="0 0 0" />
        <geometry>
            <mesh filename="package://io_mocap/description/meshes/v4/L_figer4_4.STL" />
        </geometry>
        </collision>
    <inertial>
      <origin xyz="-0.00269143985186522 0.00131123900117358 -0.010649109639719" rpy="0 0 0" />
      <mass value="0.00283814024815758" />
      <inertia ixx="2.95191093276484E-07" ixy="1.71570093387564E-09" ixz="-1.53684896368724E-08" iyy="2.53523011704858E-07" iyz="4.4774347889687E-09" izz="9.65718896046638E-08" />
    </inertial>
    </link>
    <link name="link_LeftSkeletonPinky1">
        <visual>
        <origin xyz="0 0 0" rpy="0 0 0" />
        <geometry>
            <mesh filename="package://io_mocap/description/meshes/v4/L_figer5_1.STL" />
        </geometry>
        <material name="">
            <color rgba="0.866666666666667 0.866666666666667 0.890196078431372 1" />
        </material>
        </visual>
        <collision>
        <origin xyz="0 0 0" rpy="0 0 0" />
        <geometry>
            <mesh filename="package://io_mocap/description/meshes/v4/L_figer5_1.STL" />
        </geometry>
        </collision>
    <inertial>
      <origin xyz="0.00103307504563986 0.00184077481534127 0.00372077729595737" rpy="0 0 0" />
      <mass value="0.00142104749852734" />
      <inertia ixx="7.34398091643881E-08" ixy="-2.41328502755941E-09" ixz="-3.32405673881618E-09" iyy="4.17889580664544E-08" iyz="-1.49123154253083E-08" izz="4.72743802888997E-08" />
    </inertial>
    </link>
    <link name="link_LeftSkeletonPinky2">
        <visual>
        <origin xyz="0 0 0" rpy="0 0 0" />
        <geometry>
            <mesh filename="package://io_mocap/description/meshes/v4/L_figer5_2.STL" />
        </geometry>
        <material name="">
            <color rgba="0.866666666666667 0.866666666666667 0.890196078431372 1" />
        </material>
        </visual>
        <collision>
        <origin xyz="0 0 0" rpy="0 0 0" />
        <geometry>
            <mesh filename="package://io_mocap/description/meshes/v4/L_figer5_2.STL" />
        </geometry>
        </collision>
    <inertial>
      <origin xyz="-0.00225495048675595 0.0152388470456515 0.0296839486862967" rpy="0 0 0" />
      <mass value="0.00558495640568594" />
      <inertia ixx="2.91836608158061E-06" ixy="-4.14853379397085E-09" ixz="4.21802965573986E-09" iyy="1.74531625324304E-06" iyz="-1.32500629125066E-06" izz="1.21440967547373E-06" />
    </inertial>
    </link>
    <link name="link_LeftSkeletonPinky3">
        <visual>
        <origin xyz="0 0 0" rpy="0 0 0" />
        <geometry>
            <mesh filename="package://io_mocap/description/meshes/v4/L_figer5_3.STL" />
        </geometry>
        <material name="">
            <color rgba="0.866666666666667 0.866666666666667 0.890196078431372 1" />
        </material>
        </visual>
        <collision>
        <origin xyz="0 0 0" rpy="0 0 0" />
        <geometry>
            <mesh filename="package://io_mocap/description/meshes/v4/L_figer5_3.STL" />
        </geometry>
        </collision>
    <inertial>
      <origin xyz="-0.00235576376837485 0.0214732139844029 0.0285488335633921" rpy="0 0 0" />
      <mass value="0.00663681351825927" />
      <inertia ixx="4.21487885442923E-06" ixy="-3.29902839678352E-09" ixz="1.8166501453508E-08" iyy="1.11329897328873E-06" iyz="-1.23175774928956E-06" izz="3.14894672413315E-06" />
    </inertial>
    </link>
    <link name="link_LeftSkeletonPinky4">
        <visual>
        <origin xyz="0 0 0" rpy="0 0 0" />
        <geometry>
            <mesh filename="package://io_mocap/description/meshes/v4/L_figer5_4.STL" />
        </geometry>
        <material name="">
            <color rgba="0.866666666666667 0.866666666666667 0.890196078431372 1" />
        </material>
        </visual>
        <collision>
        <origin xyz="0 0 0" rpy="0 0 0" />
        <geometry>
            <mesh filename="package://io_mocap/description/meshes/v4/L_figer5_4.STL" />
        </geometry>
        </collision>
    <inertial>
      <origin xyz="-0.00269142147355608 0.00131124179778838 -0.0106491029625067" rpy="0 0 0" />
      <mass value="0.00283813750198794" />
      <inertia ixx="2.9519141935042E-07" ixy="1.71585604436604E-09" ixz="-1.53681173379396E-08" iyy="2.5352240055643E-07" iyz="4.47741719154892E-09" izz="9.65715578191067E-08" />
    </inertial>
    </link>

    
    <link name="right_thumb_tip" />
    <link name="right_index_tip" />
    <link name="right_middle_tip" />
    <link name="right_ring_tip" />
    <link name="right_pinky_tip" />
    <link name="left_thumb_tip" />
    <link name="left_index_tip" />
    <link name="left_middle_tip" />
    <link name="left_ring_tip" />
    <link name="left_pinky_tip" />
    <link name="right_hand" />
    <link name="left_hand" />

    
    <joint name="joint_RightSkeletonBase" type="fixed">
        <parent link="base_link" />
        <child link="link_RightSkeletonBase" />
        <origin xyz="0.05 0 0" rpy="0 0 0" />
    </joint>
    
    <joint name="joint_LeftSkeletonBase" type="fixed">
        <parent link="base_link" />
        <child link="link_LeftSkeletonBase" />
        <origin xyz="-0.05 0 0" rpy="0 0 0" />
    </joint>

    
    <joint name="joint_RightSkeletonThumbBase" type="revolute">
        <origin xyz="-0.040042 -0.053331 -0.015" rpy="3.1416 0 2.1472" />
    <parent link="link_RightSkeletonBase" />
    <child link="link_RightSkeletonThumbBase" />
    <axis xyz="1 0 0" />
    <limit lower="-3.14" upper="3.14" effort="100" velocity="1" />
  </joint>
    <joint name="joint_RightSkeletonThumb1" type="revolute">
        <origin xyz="-0.0072 -0.006 0.0195" rpy="1.5708 1.5708 0" />
    <parent link="link_RightSkeletonThumbBase" />
    <child link="link_RightSkeletonThumb1" />
    <axis xyz="0 0 1" />
    <limit lower="-3.14" upper="3.14" effort="100" velocity="1" />
  </joint>
    <joint name="joint_RightSkeletonThumb2" type="revolute">
        <origin xyz="0.0036 0.0074761 0.0074414" rpy="-1.309 0 0" />
    <parent link="link_RightSkeletonThumb1" />
    <child link="link_RightSkeletonThumb2" />
    <axis xyz="1 0 0" />
    <limit lower="-3.14" upper="3.14" effort="100" velocity="1" />
  </joint>
    <joint name="joint_RightSkeletonThumb3" type="revolute">
        <origin xyz="0 0.050552 0.068334" rpy="-0.81433 0 0" />
    <parent link="link_RightSkeletonThumb2" />
    <child link="link_RightSkeletonThumb3" />
    <axis xyz="1 0 0" />
    <limit lower="-3.14" upper="3.14" effort="100" velocity="1" />
  </joint>
    <joint name="joint_RightSkeletonThumb4" type="revolute">
        <origin xyz="0 0.0080746 0.045794" rpy="2.5307 0 0" />
    <parent link="link_RightSkeletonThumb3" />
    <child link="link_RightSkeletonThumb4" />
    <axis xyz="1 0 0" />
    <limit lower="0" upper="0" effort="0" velocity="0" />
  </joint>
    <joint name="joint_RightSkeletonIndex1" type="revolute">
        <origin xyz="-0.021871 0.0026351 -0.0024377" rpy="0 -0.2618 -0.1199" />
    <parent link="link_RightSkeletonBase" />
    <child link="link_RightSkeletonIndex1" />
    <axis xyz="0 0 1" />
    <limit lower="0" upper="0" effort="0" velocity="0" />
  </joint>
    <joint name="joint_RightSkeletonIndex2" type="revolute">
        <origin xyz="0.0036 0.0074761 0.0074414" rpy="-0.75647 0 0" />
    <parent link="link_RightSkeletonIndex1" />
    <child link="link_RightSkeletonIndex2" />
    <axis xyz="1 0 0" />
    <limit lower="0" upper="0" effort="0" velocity="0" />
  </joint>
    <joint name="joint_RightSkeletonIndex3" type="revolute">
        <origin xyz="0 0.043889 0.062046" rpy="0.46849 0 0" />
    <parent link="link_RightSkeletonIndex2" />
    <child link="link_RightSkeletonIndex3" />
    <axis xyz="1 0 0" />
    <limit lower="0" upper="0" effort="0" velocity="0" />
  </joint>
    <joint name="joint_RightSkeletonIndex4" type="revolute">
        <origin xyz="0 0.064952 0.0375" rpy="1.2217 0 0" />
    <parent link="link_RightSkeletonIndex3" />
    <child link="link_RightSkeletonIndex4" />
    <axis xyz="1 0 0" />
    <limit lower="0" upper="0" effort="0" velocity="0" />
  </joint>
    <joint name="joint_RightSkeletonMiddle1" type="revolute">
        <origin xyz="0 0 0.0005" rpy="0 0 -0.1199" />
    <parent link="link_RightSkeletonBase" />
    <child link="link_RightSkeletonMiddle1" />
    <axis xyz="0 0 1" />
    <limit lower="0" upper="0" effort="0" velocity="0" />
  </joint>
    <joint name="joint_RightSkeletonMiddle2" type="revolute">
        <origin xyz="0.0036 0.0074761 0.0074414" rpy="-0.75647 0 0" />
    <parent link="link_RightSkeletonMiddle1" />
    <child link="link_RightSkeletonMiddle2" />
    <axis xyz="1 0 0" />
    <limit lower="0" upper="0" effort="0" velocity="0" />
  </joint>
    <joint name="joint_RightSkeletonMiddle3" type="revolute">
        <origin xyz="0 0.043889 0.062046" rpy="0.46849 0 0" />
    <parent link="link_RightSkeletonMiddle2" />
    <child link="link_RightSkeletonMiddle3" />
    <axis xyz="1 0 0" />
    <limit lower="0" upper="0" effort="0" velocity="0" />
  </joint>
    <joint name="joint_RightSkeletonMiddle4" type="revolute">
        <origin xyz="0 0.062616 0.040744" rpy="1.2217 0 0" />
    <parent link="link_RightSkeletonMiddle3" />
    <child link="link_RightSkeletonMiddle4" />
    <axis xyz="1 0 0" />
    <limit lower="0" upper="0" effort="0" velocity="0" />
  </joint>
    <joint name="joint_RightSkeletonRing1" type="revolute">
        <origin xyz="0.020849 -0.002512 0.0005" rpy="0 0 -0.1199" />
    <parent link="link_RightSkeletonBase" />
    <child link="link_RightSkeletonRing1" />
    <axis xyz="0 0 1" />
    <limit lower="0" upper="0" effort="0" velocity="0" />
  </joint>
    <joint name="joint_RightSkeletonRing2" type="revolute">
        <origin xyz="0.0036 0.0074761 0.0074414" rpy="-0.75647 0 0" />
    <parent link="link_RightSkeletonRing1" />
    <child link="link_RightSkeletonRing2" />
    <axis xyz="1 0 0" />
    <limit lower="0" upper="0" effort="0" velocity="0" />
  </joint>
    <joint name="joint_RightSkeletonRing3" type="revolute">
        <origin xyz="0 0.043889 0.062046" rpy="0.46849 0 0" />
    <parent link="link_RightSkeletonRing2" />
    <child link="link_RightSkeletonRing3" />
    <axis xyz="1 0 0" />
    <limit lower="0" upper="0" effort="0" velocity="0" />
  </joint>
    <joint name="joint_RightSkeletonRing4" type="revolute">
        <origin xyz="0 0.062616 0.040744" rpy="1.2217 0 0" />
    <parent link="link_RightSkeletonRing3" />
    <child link="link_RightSkeletonRing4" />
    <axis xyz="1 0 0" />
    <limit lower="0" upper="0" effort="0" velocity="0" />
  </joint>
    <joint name="joint_RightSkeletonPinky1" type="revolute">
        <origin xyz="0.042036 -0.0050645 -0.0016681" rpy="0 0.17453 -0.1199" />
    <parent link="link_RightSkeletonBase" />
    <child link="link_RightSkeletonPinky1" />
    <axis xyz="0 0 1" />
    <limit lower="0" upper="0" effort="0" velocity="0" />
  </joint>
    <joint name="joint_RightSkeletonPinky2" type="revolute">
        <origin xyz="0.0036 0.0074761 0.0074414" rpy="-0.75647 0 0" />
    <parent link="link_RightSkeletonPinky1" />
    <child link="link_RightSkeletonPinky2" />
    <axis xyz="1 0 0" />
    <limit lower="0" upper="0" effort="0" velocity="0" />
  </joint>
    <joint name="joint_RightSkeletonPinky3" type="revolute">
        <origin xyz="0 0.043889 0.062046" rpy="0.46849 0 0" />
    <parent link="link_RightSkeletonPinky2" />
    <child link="link_RightSkeletonPinky3" />
    <axis xyz="1 0 0" />
    <limit lower="0" upper="0" effort="0" velocity="0" />
  </joint>
    <joint name="joint_RightSkeletonPinky4" type="revolute">
        <origin xyz="0 0.064952 0.0375" rpy="1.2217 0 0" />
    <parent link="link_RightSkeletonPinky3" />
    <child link="link_RightSkeletonPinky4" />
    <axis xyz="1 0 0" />
    <limit lower="0" upper="0" effort="0" velocity="0" />
  </joint>

    
    <joint name="joint_LeftSkeletonThumbBase" type="revolute">
        <origin xyz="0.040042 -0.053331 -0.015" rpy="0 0 0.99442" />
    <parent link="link_LeftSkeletonBase" />
    <child link="link_LeftSkeletonThumbBase" />
    <axis xyz="1 0 0" />
    <limit lower="0" upper="0" effort="0" velocity="0" />
  </joint>
    <joint name="joint_LeftSkeletonThumb1" type="revolute">
        <origin xyz="-0.0072 -0.006 -0.0195" rpy="1.5708 1.5708 0" />
    <parent link="link_LeftSkeletonThumbBase" />
    <child link="link_LeftSkeletonThumb1" />
    <axis xyz="0 0 1" />
    <limit lower="0" upper="0" effort="0" velocity="0" />
  </joint>
    <joint name="joint_LeftSkeletonThumb2" type="revolute">
        <origin xyz="0.0036 0.0074761 0.0074414" rpy="-1.309 0 0" />
    <parent link="link_LeftSkeletonThumb1" />
    <child link="link_LeftSkeletonThumb2" />
    <axis xyz="1 0 0" />
    <limit lower="0" upper="0" effort="0" velocity="0" />
  </joint>
    <joint name="joint_LeftSkeletonThumb3" type="revolute">
        <origin xyz="0 0.050552 0.068334" rpy="-0.81433 0 0" />
    <parent link="link_LeftSkeletonThumb2" />
    <child link="link_LeftSkeletonThumb3" />
    <axis xyz="1 0 0" />
    <limit lower="0" upper="0" effort="0" velocity="0" />
  </joint>
    <joint name="joint_LeftSkeletonThumb4" type="revolute">
        <origin xyz="0 0.0080746 0.045794" rpy="2.5307 0 0" />
    <parent link="link_LeftSkeletonThumb3" />
    <child link="link_LeftSkeletonThumb4" />
    <axis xyz="1 0 0" />
    <limit lower="0" upper="0" effort="0" velocity="0" />
  </joint>
    <joint name="joint_LeftSkeletonIndex1" type="revolute">
        <origin xyz="0.021871 0.0026351 -0.0024377" rpy="0 0.2618 0.1199" />
    <parent link="link_LeftSkeletonBase" />
    <child link="link_LeftSkeletonIndex1" />
    <axis xyz="0 0 1" />
    <limit lower="0" upper="0" effort="0" velocity="0" />
  </joint>
    <joint name="joint_LeftSkeletonIndex2" type="revolute">
        <origin xyz="0.0036 0.0074761 0.0074414" rpy="-0.75647 0 0" />
    <parent link="link_LeftSkeletonIndex1" />
    <child link="link_LeftSkeletonIndex2" />
    <axis xyz="1 0 0" />
    <limit lower="0" upper="0" effort="0" velocity="0" />
  </joint>
    <joint name="joint_LeftSkeletonIndex3" type="revolute">
        <origin xyz="0 0.043889 0.062046" rpy="0.46849 0 0" />
    <parent link="link_LeftSkeletonIndex2" />
    <child link="link_LeftSkeletonIndex3" />
    <axis xyz="1 0 0" />
    <limit lower="0" upper="0" effort="0" velocity="0" />
  </joint>
    <joint name="joint_LeftSkeletonIndex4" type="revolute">
        <origin xyz="0 0.064952 0.0375" rpy="1.2217 0 0" />
    <parent link="link_LeftSkeletonIndex3" />
    <child link="link_LeftSkeletonIndex4" />
    <axis xyz="1 0 0" />
    <limit lower="0" upper="0" effort="0" velocity="0" />
  </joint>
    <joint name="joint_LeftSkeletonMiddle1" type="revolute">
        <origin xyz="0 0 0.0005" rpy="0 0 0.1199" />
    <parent link="link_LeftSkeletonBase" />
    <child link="link_LeftSkeletonMiddle1" />
    <axis xyz="0 0 1" />
    <limit lower="0" upper="0" effort="0" velocity="0" />
  </joint>
    <joint name="joint_LeftSkeletonMiddle2" type="revolute">
        <origin xyz="0.0036 0.0074761 0.0074414" rpy="-0.75647 0 0" />
    <parent link="link_LeftSkeletonMiddle1" />
    <child link="link_LeftSkeletonMiddle2" />
    <axis xyz="1 0 0" />
    <limit lower="0" upper="0" effort="0" velocity="0" />
  </joint>
    <joint name="joint_LeftSkeletonMiddle3" type="revolute">
        <origin xyz="0 0.043889 0.062046" rpy="0.46849 0 0" />
    <parent link="link_LeftSkeletonMiddle2" />
    <child link="link_LeftSkeletonMiddle3" />
    <axis xyz="1 0 0" />
    <limit lower="0" upper="0" effort="0" velocity="0" />
  </joint>
    <joint name="joint_LeftSkeletonMiddle4" type="revolute">
        <origin xyz="0 0.064952 0.0375" rpy="1.2217 0 0" />
    <parent link="link_LeftSkeletonMiddle3" />
    <child link="link_LeftSkeletonMiddle4" />
    <axis xyz="1 0 0" />
    <limit lower="0" upper="0" effort="0" velocity="0" />
  </joint>
    <joint name="joint_LeftSkeletonRing1" type="revolute">
        <origin xyz="-0.020849 -0.002512 0.0005" rpy="0 0 0.1199" />
    <parent link="link_LeftSkeletonBase" />
    <child link="link_LeftSkeletonRing1" />
    <axis xyz="0 0 1" />
    <limit lower="0" upper="0" effort="0" velocity="0" />
  </joint>
    <joint name="joint_LeftSkeletonRing2" type="revolute">
        <origin xyz="0.0036 0.0074761 0.0074414" rpy="-0.75647 0 0" />
    <parent link="link_LeftSkeletonRing1" />
    <child link="link_LeftSkeletonRing2" />
    <axis xyz="1 0 0" />
    <limit lower="0" upper="0" effort="0" velocity="0" />
  </joint>
    <joint name="joint_LeftSkeletonRing3" type="revolute">
        <origin xyz="0 0.043889 0.062046" rpy="0.46849 0 0" />
    <parent link="link_LeftSkeletonRing2" />
    <child link="link_LeftSkeletonRing3" />
    <axis xyz="1 0 0" />
    <limit lower="0" upper="0" effort="0" velocity="0" />
  </joint>
    <joint name="joint_LeftSkeletonRing4" type="revolute">
        <origin xyz="0 0.064952 0.0375" rpy="1.2217 0 0" />
    <parent link="link_LeftSkeletonRing3" />
    <child link="link_LeftSkeletonRing4" />
    <axis xyz="1 0 0" />
    <limit lower="0" upper="0" effort="0" velocity="0" />
  </joint>
    <joint name="joint_LeftSkeletonPinky1" type="revolute">
        <origin xyz="-0.042036 -0.0050645 -0.0016681" rpy="0 -0.17453 0.1199" />
    <parent link="link_LeftSkeletonBase" />
    <child link="link_LeftSkeletonPinky1" />
    <axis xyz="0 0 1" />
    <limit lower="0" upper="0" effort="0" velocity="0" />
  </joint>
    <joint name="joint_LeftSkeletonPinky2" type="revolute">
        <origin xyz="0.0036 0.0074761 0.0074414" rpy="-0.75647 0 0" />
    <parent link="link_LeftSkeletonPinky1" />
    <child link="link_LeftSkeletonPinky2" />
    <axis xyz="1 0 0" />
    <limit lower="0" upper="0" effort="0" velocity="0" />
  </joint>
    <joint name="joint_LeftSkeletonPinky3" type="revolute">
        <origin xyz="0 0.043889 0.062046" rpy="0.46849 0 0" />
    <parent link="link_LeftSkeletonPinky2" />
    <child link="link_LeftSkeletonPinky3" />
    <axis xyz="1 0 0" />
    <limit lower="0" upper="0" effort="0" velocity="0" />
  </joint>
    <joint name="joint_LeftSkeletonPinky4" type="revolute">
        <origin xyz="0 0.064952 0.0375" rpy="1.2217 0 0" />
    <parent link="link_LeftSkeletonPinky3" />
    <child link="link_LeftSkeletonPinky4" />
    <axis xyz="1 0 0" />
    <limit lower="0" upper="0" effort="0" velocity="0" />
  </joint>

    
    <joint name="right_thumb_tip_joint" type="fixed">
        <origin xyz="-0.0026 0.005 -0.027" rpy="0 0 0" />
        <parent link="link_RightSkeletonThumb4" />
        <child link="right_thumb_tip" />
    </joint>
    <joint name="right_index_tip_joint" type="fixed">
        <origin xyz="-0.0026 0.005 -0.027" rpy="0 0 0" />
        <parent link="link_RightSkeletonIndex4" />
        <child link="right_index_tip" />
    </joint>
    <joint name="right_middle_tip_joint" type="fixed">
        <origin xyz="-0.0026 0.005 -0.027" rpy="0 0 0" />
        <parent link="link_RightSkeletonMiddle4" />
        <child link="right_middle_tip" />
    </joint>
    <joint name="right_ring_tip_joint" type="fixed">
        <origin xyz="-0.0026 0.005 -0.027" rpy="0 0 0" />
        <parent link="link_RightSkeletonRing4" />
        <child link="right_ring_tip" />
    </joint>
    <joint name="right_pinky_tip_joint" type="fixed">
        <origin xyz="-0.0026 0.005 -0.027" rpy="0 0 0" />
        <parent link="link_RightSkeletonPinky4" />
        <child link="right_pinky_tip" />
    </joint>
    <joint name="left_thumb_tip_joint" type="fixed">
        <origin xyz="-0.0026 0.005 -0.027" rpy="0 0 0" />
        <parent link="link_LeftSkeletonThumb4" />
        <child link="left_thumb_tip" />
    </joint>
    <joint name="left_index_tip_joint" type="fixed">
        <origin xyz="-0.0026 0.005 -0.027" rpy="0 0 0" />
        <parent link="link_LeftSkeletonIndex4" />
        <child link="left_index_tip" />
    </joint>
    <joint name="left_middle_tip_joint" type="fixed">
        <origin xyz="-0.0026 0.005 -0.027" rpy="0 0 0" />
        <parent link="link_LeftSkeletonMiddle4" />
        <child link="left_middle_tip" />
    </joint>
    <joint name="left_ring_tip_joint" type="fixed">
        <origin xyz="-0.0026 0.005 -0.027" rpy="0 0 0" />
        <parent link="link_LeftSkeletonRing4" />
        <child link="left_ring_tip" />
    </joint>
    <joint name="left_pinky_tip_joint" type="fixed">
        <origin xyz="-0.0026 0.005 -0.027" rpy="0 0 0" />
        <parent link="link_LeftSkeletonPinky4" />
        <child link="left_pinky_tip" />
    </joint>
    <joint name="joint_right_hand" type="fixed">
        <origin xyz="0.0097906 -0.039958 -0.03" rpy="0 0 0" />
        <parent link="link_RightSkeletonBase" />
        <child link="right_hand" />
    </joint>
    <joint name="joint_left_hand" type="fixed">
        <origin xyz="-0.0097906 -0.039958 -0.03" rpy="0 0 0" />
        <parent link="link_LeftSkeletonBase" />
        <child link="left_hand" />
    </joint>
  <link
    name="Rgamepadbase">
    <inertial>
      <origin
        xyz="0.0031077 0.021669 0.0084989"
        rpy="0 0 0" />
      <mass
        value="0.02843" />
      <inertia
        ixx="1.9843E-05"
        ixy="-3.9906E-07"
        ixz="-5.063E-07"
        iyy="9.7174E-06"
        iyz="-3.9711E-06"
        izz="2.0273E-05" />
    </inertial>
    <visual>
      <origin
        xyz="0 0 0"
        rpy="0 0 0" />
      <geometry>
        <mesh
          filename="package://io_mocap/description/meshes/v4/Rgamepadbase.STL" />
      </geometry>
      <material
        name="">
        <color
          rgba="0.79216 0.81961 0.93333 1" />
      </material>
    </visual>
  </link>
  <link
    name="Rgamepad">
    <inertial>
      <origin
        xyz="0.00893 -0.041415 -0.020604"
        rpy="0 0 0" />
      <mass
        value="0.021713" />
      <inertia
        ixx="4.7609E-06"
        ixy="-3.6668E-07"
        ixz="-2.4931E-07"
        iyy="1.9878E-06"
        iyz="-1.3791E-06"
        izz="3.9524E-06" />
    </inertial>
  </link>
  <joint name="Rgamebase_joint" type="fixed" >
    <origin xyz="0.0097906 -0.039958 0.0172" rpy="0 0 1.4509" />
    <parent link="link_RightSkeletonBase" />
    <child link="Rgamepadbase" />
  </joint>
  <joint
    name="Rgamepad_joint"
    type="fixed">
    <origin
      xyz="-0.035927 0.0795 0.020469"
      rpy="2.8795 0.79734 -2.0538" />
    <parent
      link="Rgamepadbase" />
    <child
      link="Rgamepad" />
    <axis
      xyz="0 0 0" />
  </joint>
  <link
    name="Lgamepadbase">
    <inertial>
      <origin
        xyz="0.0030876 -0.021663 0.0084916"
        rpy="0 0 0" />
      <mass
        value="0.028422" />
      <inertia
        ixx="1.9837E-05"
        ixy="3.9965E-07"
        ixz="-5.0714E-07"
        iyy="9.714E-06"
        iyz="3.9687E-06"
        izz="2.0269E-05" />
    </inertial>
    <visual>
      <origin
        xyz="0 0 0"
        rpy="0 0 0" />
      <geometry>
        <mesh
          filename="package://io_mocap/description/meshes/v4/Lgamepadbase.STL" />
      </geometry>
      <material
        name="">
        <color
          rgba="0.79216 0.81961 0.93333 1" />
      </material>
    </visual>
  </link>
  <link
    name="Lgamepad">
    <inertial>
      <origin
        xyz="0.11839 0.017119 0.1301"
        rpy="0 0 0" />
      <mass
        value="0.021713" />
      <inertia
        ixx="2.7073E-06"
        ixy="1.5308E-06"
        ixz="-7.3415E-07"
        iyy="3.4923E-06"
        iyz="6.6424E-07"
        izz="4.5015E-06" />
    </inertial>
  </link>
<joint name="Lgamebase_joint" type="fixed" >
	<origin xyz="-0.0097906 -0.039958 0.0172" rpy="0 0 1.6907" />
	<parent link="link_LeftSkeletonBase" />
	<child link="Lgamepadbase" />
</joint>
<joint
	name="Lgamepad_joint"
	type="fixed">
	<origin
			xyz="-0.035948 -0.079502 0.020469"
			rpy="2.8795 -0.79734 -1.0878" />
	<parent
			link="Lgamepadbase" />
	<child
			link="Lgamepad" />
	<axis
    xyz="0 0 0" />
</joint>
</robot>
